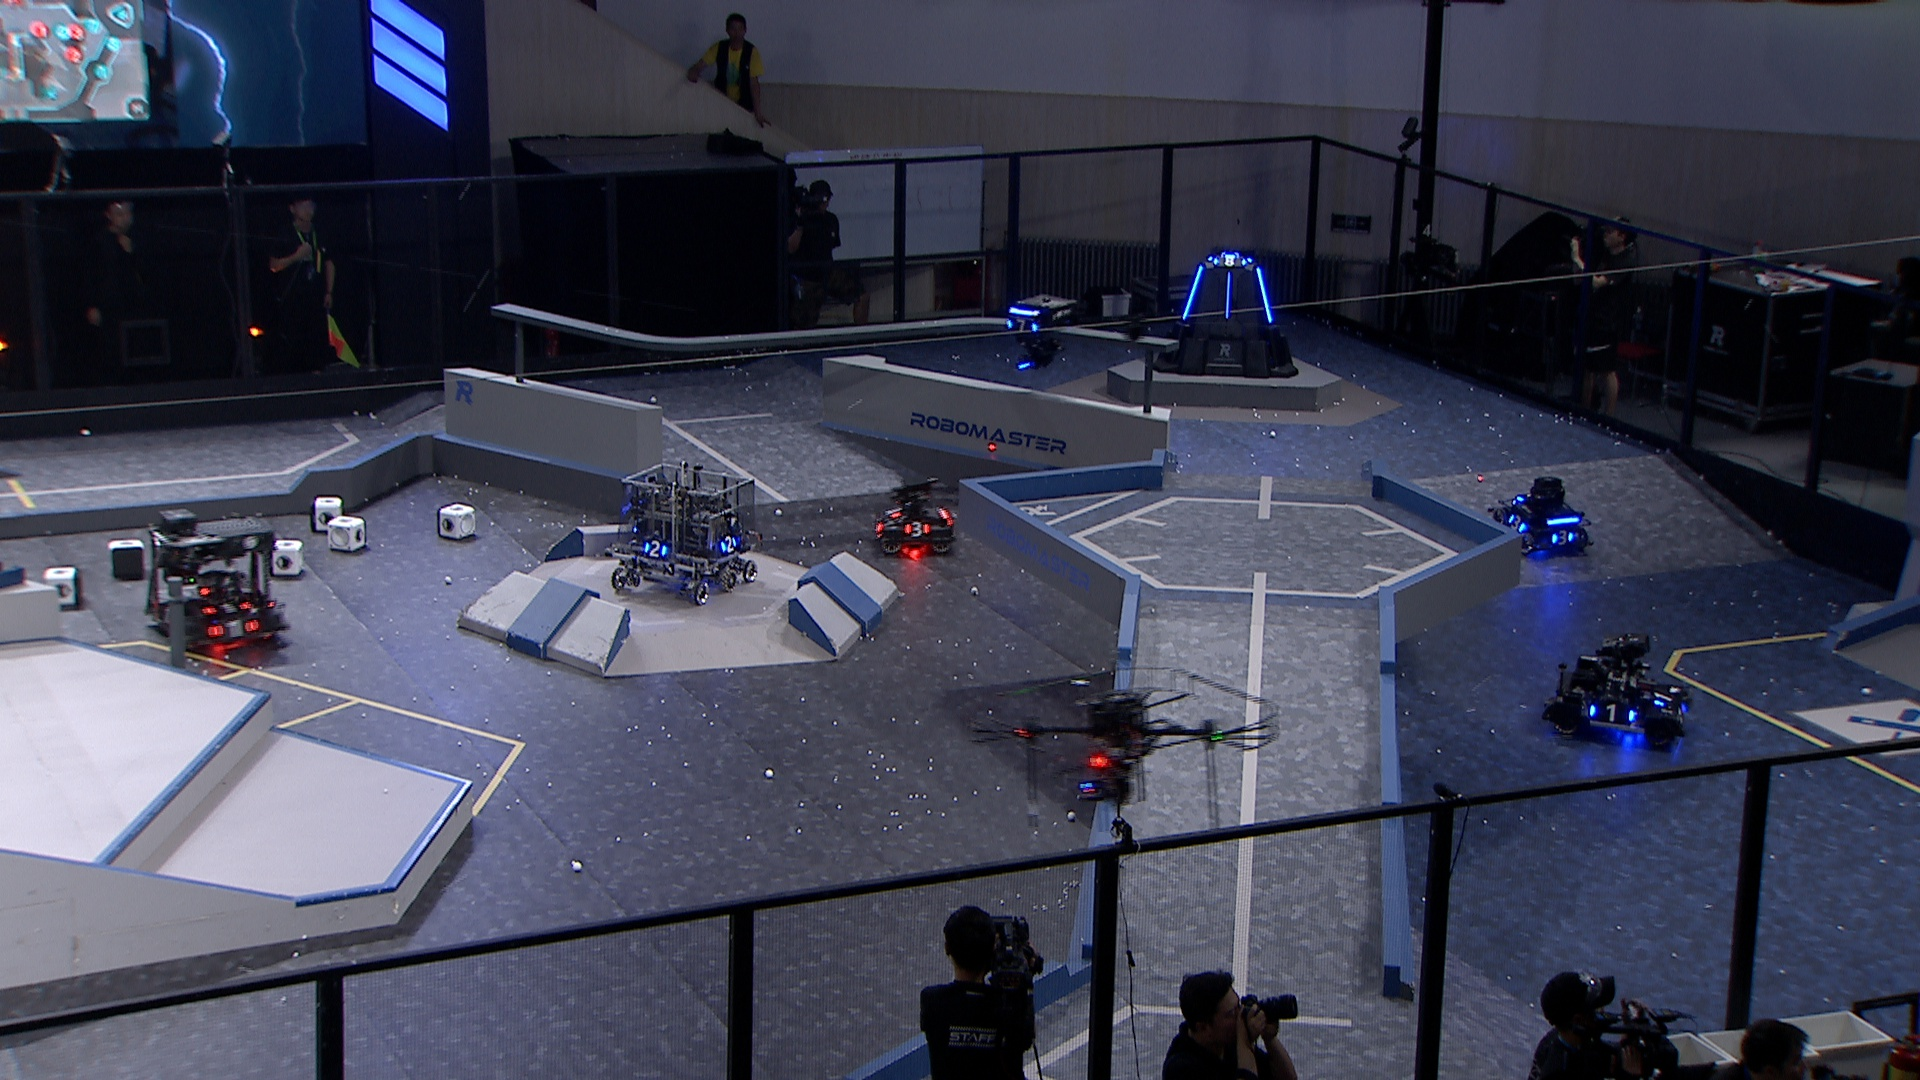armor: (1179, 264, 1207, 324), (1253, 266, 1280, 324), (204, 618, 262, 644), (1584, 702, 1636, 725), (200, 600, 253, 618), (1004, 318, 1039, 338), (641, 541, 671, 559), (1647, 688, 1673, 709), (902, 522, 931, 541), (1209, 255, 1249, 268), (1549, 527, 1575, 546), (1224, 272, 1233, 319), (716, 534, 740, 553), (1509, 514, 1528, 535), (1673, 703, 1689, 723), (884, 505, 905, 518)
base: (1145, 247, 1300, 380)
car: (608, 462, 764, 609), (138, 508, 291, 651), (1544, 626, 1700, 746), (1493, 472, 1596, 559), (874, 476, 957, 556)
watcher: (997, 290, 1081, 373)
